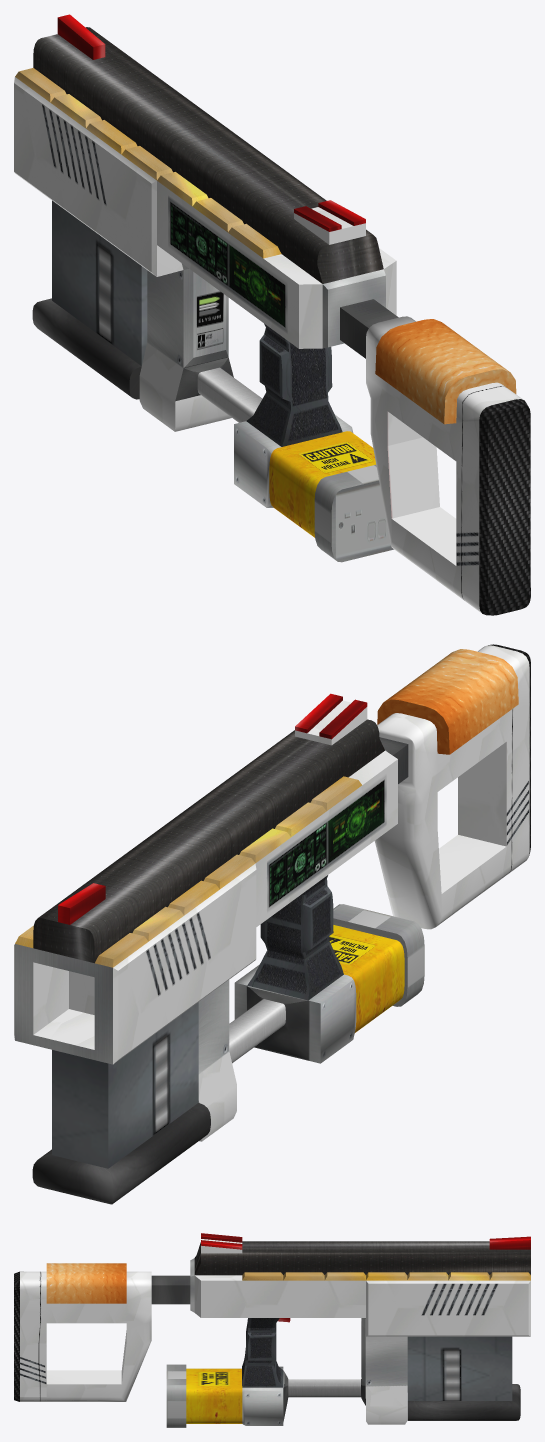
3 views of the same model, one above another, from view 1: azimuth 30°, elevation 25°; view 2: azimuth 150°, elevation 25°; view 3: azimuth 270°, elevation 25° (orthographic). The views are drawn at different scales.
Visible parts, largest first — view 1: AR01; view 2: AR01; view 3: AR01.
Boxes of the visible parts, box(x1,y1,x2,y2) form: AR01: box(14, 14, 530, 615); AR01: box(14, 644, 530, 1204); AR01: box(14, 1233, 530, 1427).
Bounding box in the file's own units: 21.45 × 60.85 × 159.
1 material, 1 textured.
